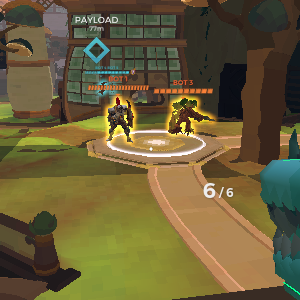model: (168, 96, 214, 135), (104, 93, 137, 147)
